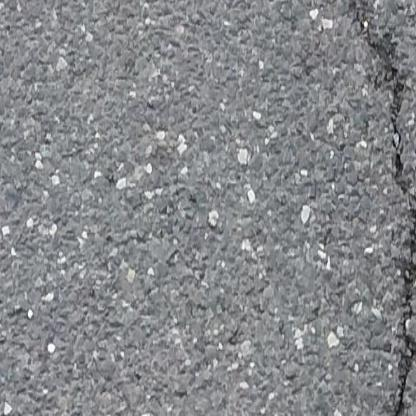Cracks: (337, 0, 416, 416)
